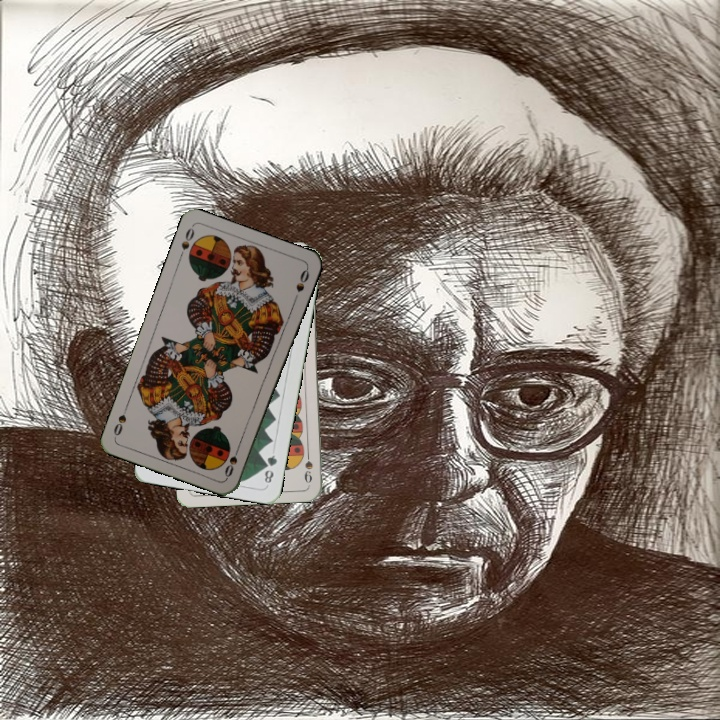G8: (260, 451, 280, 486)
S9: (300, 445, 315, 486)
SO: (220, 441, 243, 480), (175, 224, 197, 262)
